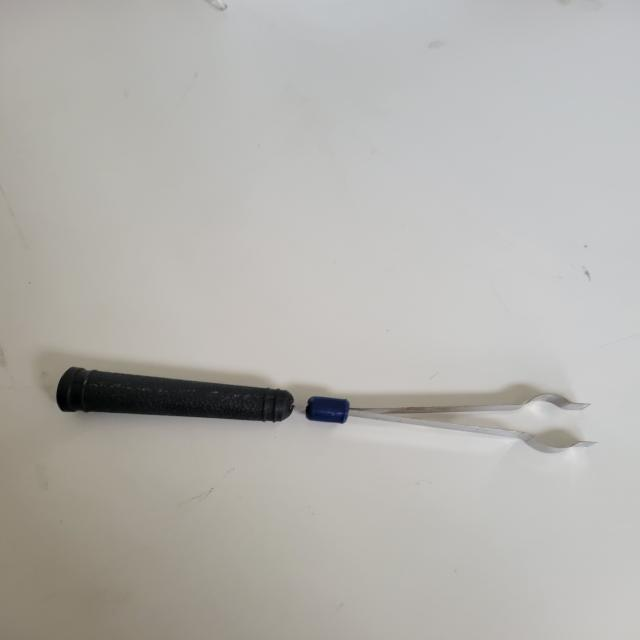TestTube_Holder: (47, 292, 600, 518)
